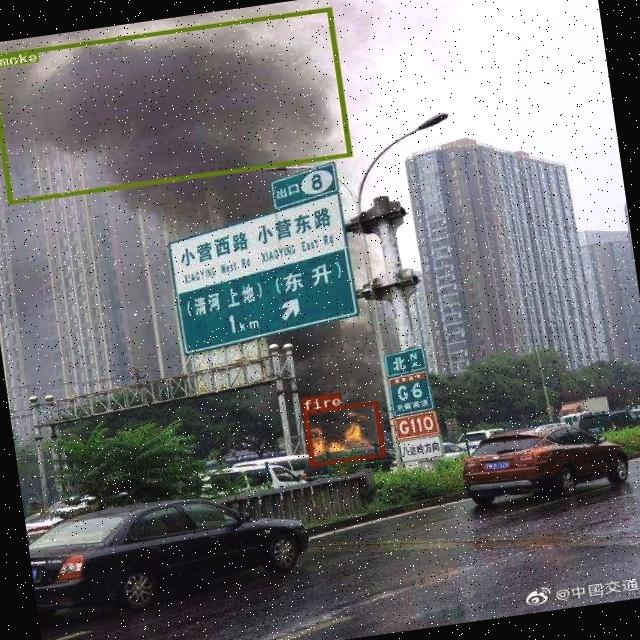fire: (302, 400, 384, 467)
smoke: (0, 7, 351, 204)
